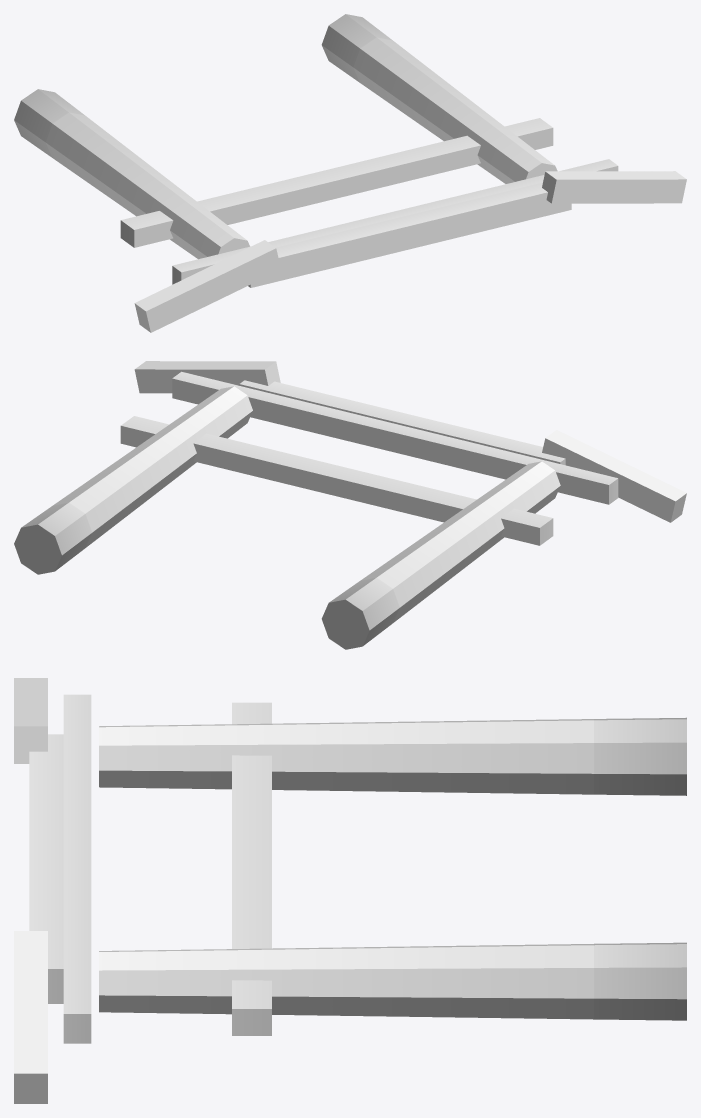
File: SM_Torii_Gate_Small.glb
3 views of the same model, one above another, from view 1: azimuth 30°, elevation 25°; view 2: azimuth 150°, elevation 25°; view 3: azimuth 270°, elevation 25° (orthographic). The views are drawn at different scales.
Parts seen in each view (by area): view 1: asset_torii_small; view 2: asset_torii_small; view 3: asset_torii_small.
Part boxes in pixels (x1,y1,x2,y2): asset_torii_small: (14,14,686,332); asset_torii_small: (14,361,686,649); asset_torii_small: (14,678,686,1103).
Bounding box in the file's own units: 2.9 × 0.278 × 2.09.
Materials: 1 (1 with a texture image).
